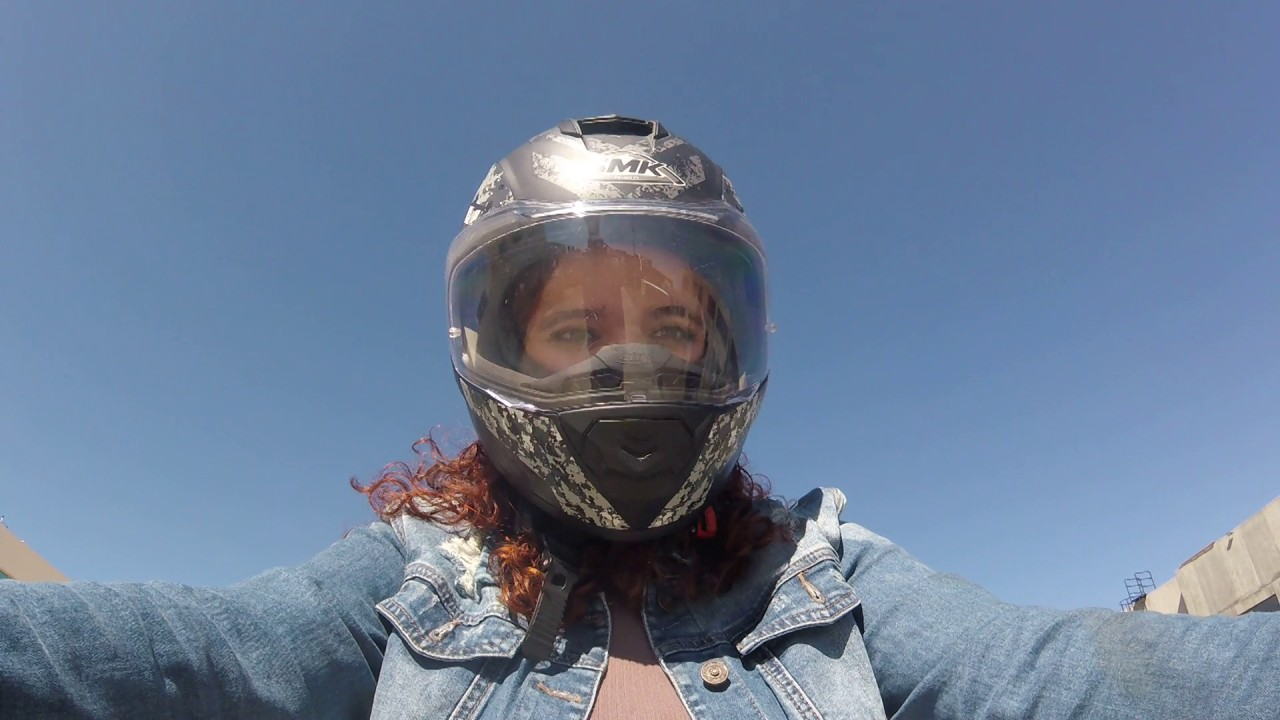With Helmet: (422, 107, 788, 550)
